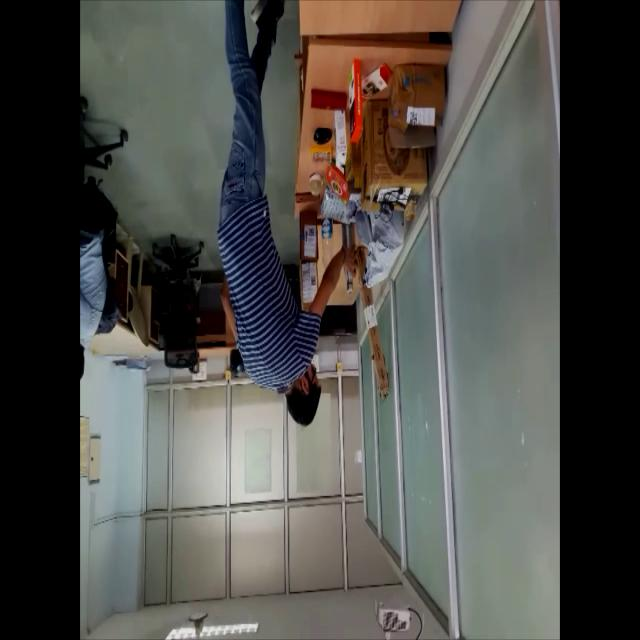normal: (216, 0, 356, 438)
